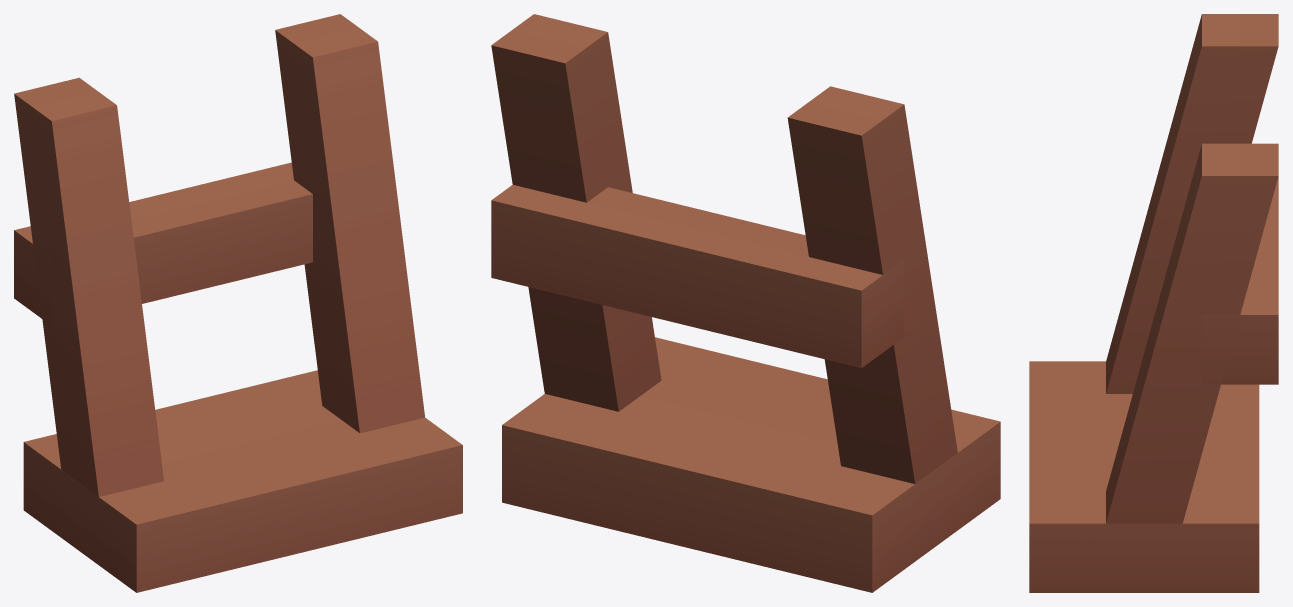
Rendered from weaponrack.glb.
The picture shows the model from 3 angles, left to right: view 1: azimuth 30°, elevation 25°; view 2: azimuth 150°, elevation 25°; view 3: azimuth 270°, elevation 25°; orthographic projection. The views are drawn at different scales.
Parts seen in each view (by area): view 1: weaponrack; view 2: weaponrack; view 3: weaponrack.
Boxes of the visible parts, x1=… form: weaponrack: x1=14, y1=14, x2=462, y2=592; weaponrack: x1=491, y1=14, x2=1000, y2=592; weaponrack: x1=1029, y1=14, x2=1278, y2=592.
Bounding box in the file's own units: 0.2 × 0.24 × 0.13.
1 material, 1 textured.
